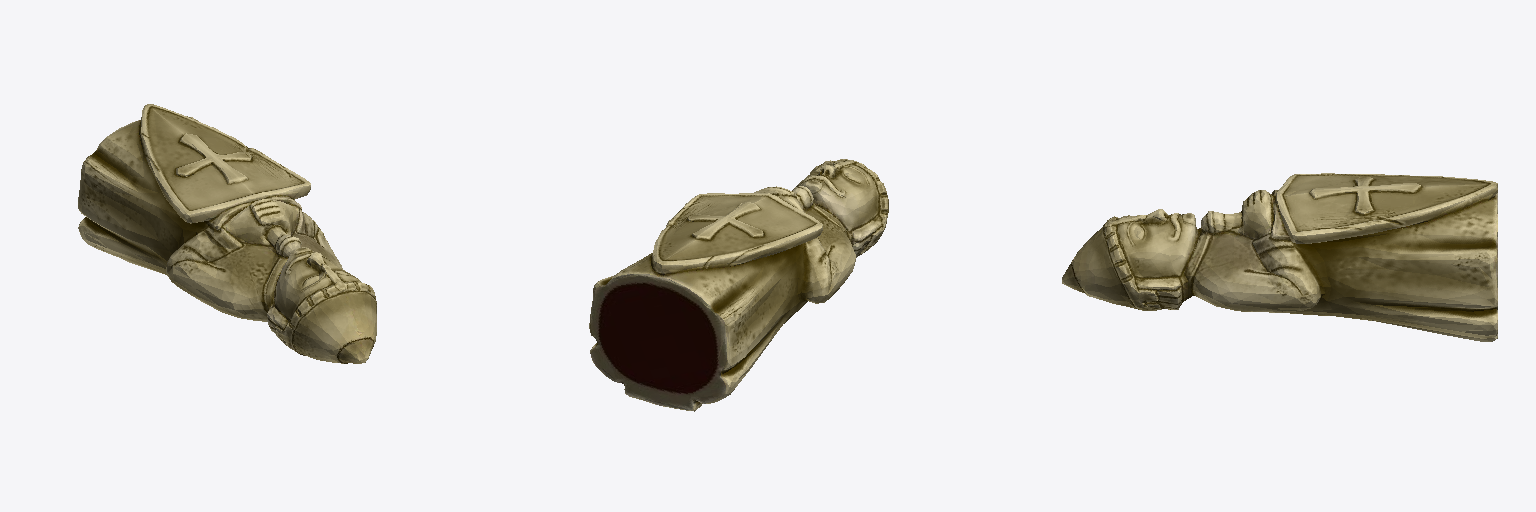
The picture shows the model from 3 angles: view 1: azimuth 30°, elevation 25°; view 2: azimuth 150°, elevation 25°; view 3: azimuth 270°, elevation 25°; orthographic projection.
Visible parts, largest first — view 1: mmGroup0; view 2: mmGroup0; view 3: mmGroup0.
Boxes of the visible parts, x1=… form: mmGroup0: x1=78, y1=104, x2=376, y2=363; mmGroup0: x1=589, y1=159, x2=888, y2=411; mmGroup0: x1=1062, y1=173, x2=1497, y2=341.
Bounding box in the file's own units: 3.87 × 3.55 × 9.68.
1 materials, 1 textured.